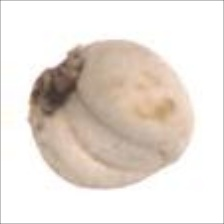L5: (61, 85, 169, 173), (26, 44, 93, 120)
L6: (25, 38, 198, 192)
